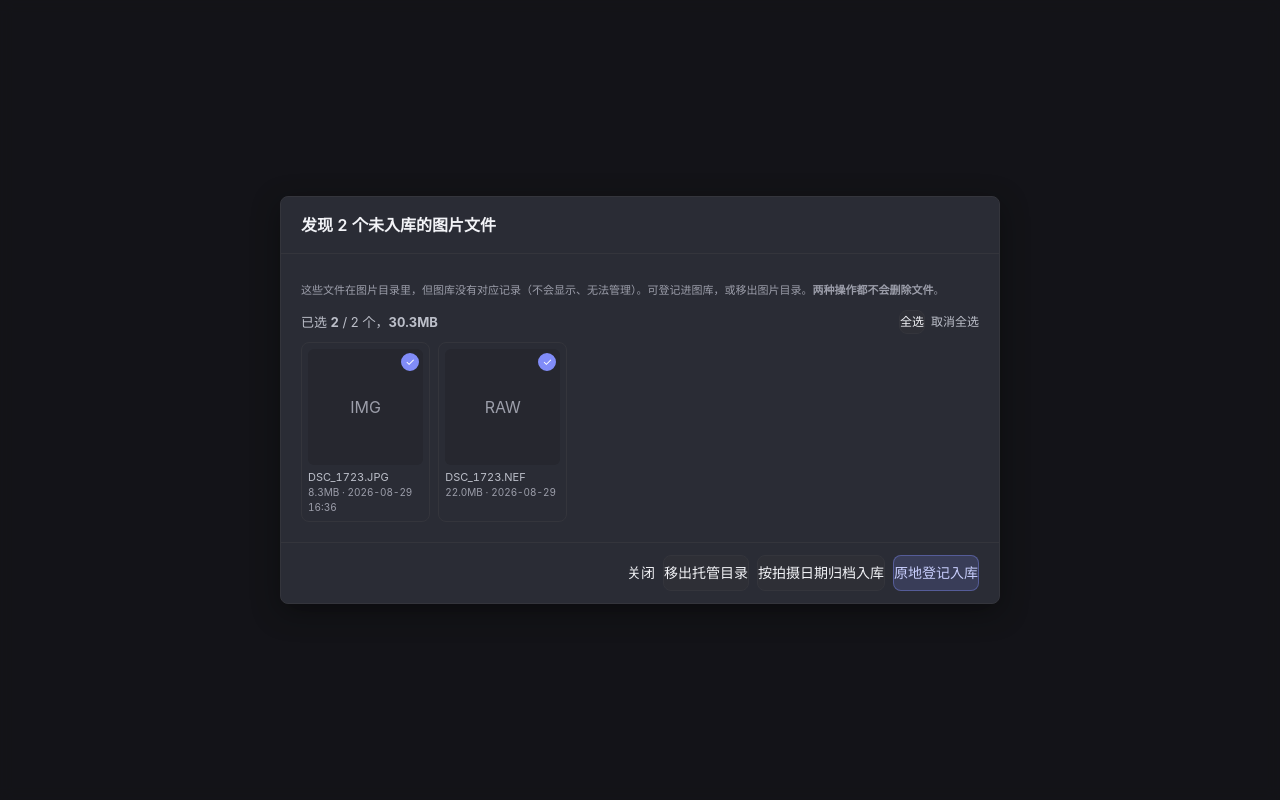
it: OrphanFilesPanel › 取消全选后三个处置按钮禁用
The image size is (1280, 800).
Click the button "取消全选": (955, 322) [931,310,979,334]
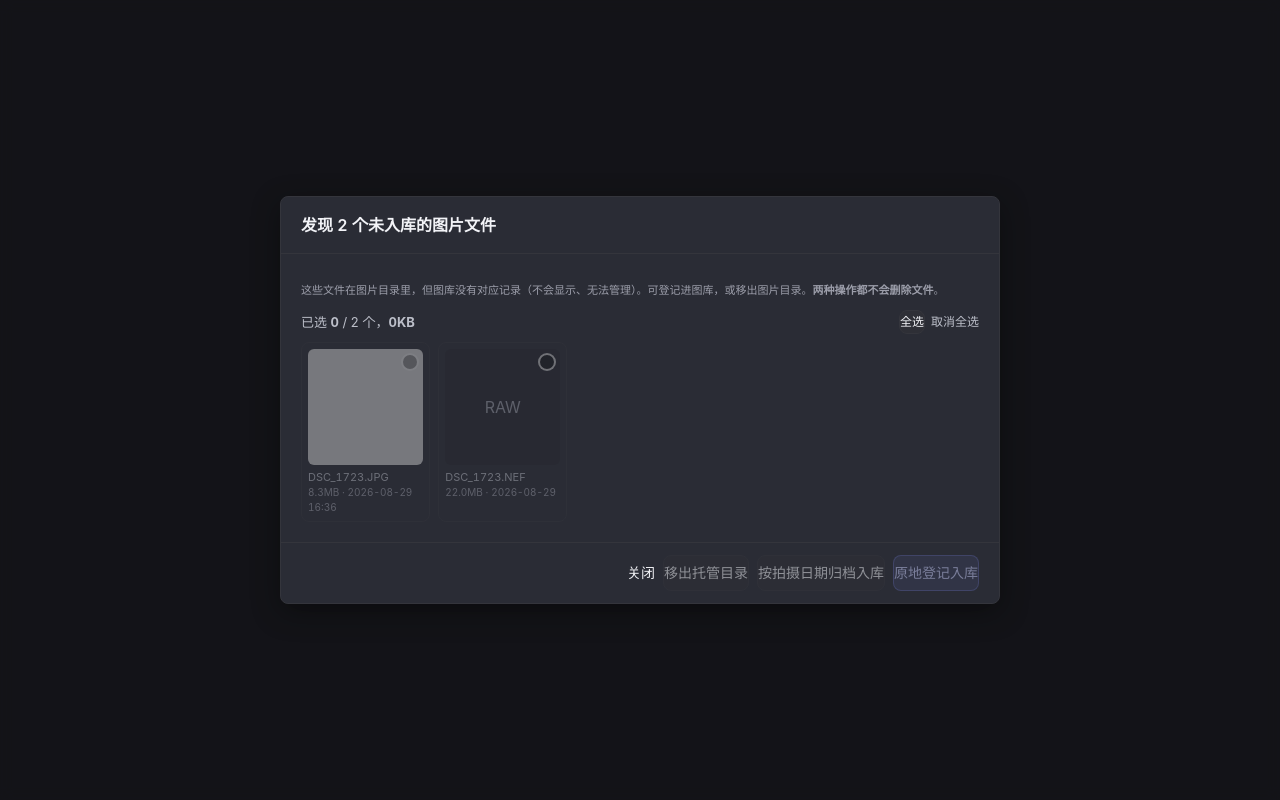
expect the button "原地登记入库" is disabled: met, box [893,555,979,591]
expect the button "按拍摄日期归档入库" is disabled: met, box [757,555,885,591]
expect the button "移出托管目录" is disabled: met, box [663,555,749,591]
